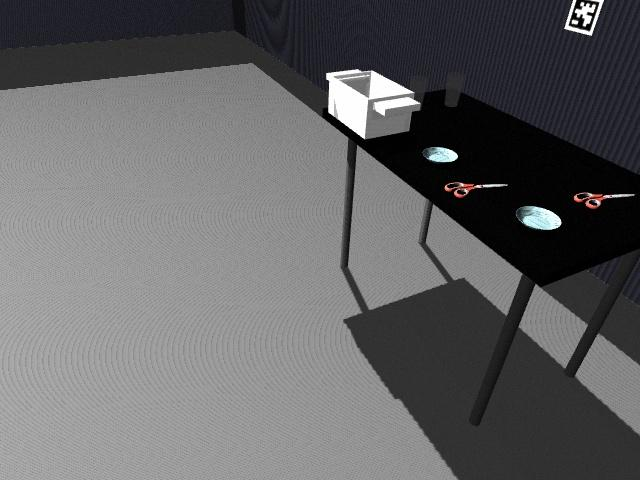cup: (444, 72, 465, 108), (409, 74, 427, 105)
plate: (514, 204, 563, 230), (421, 146, 457, 163)
scissors: (444, 181, 506, 199), (574, 192, 635, 209), (573, 192, 609, 201)
